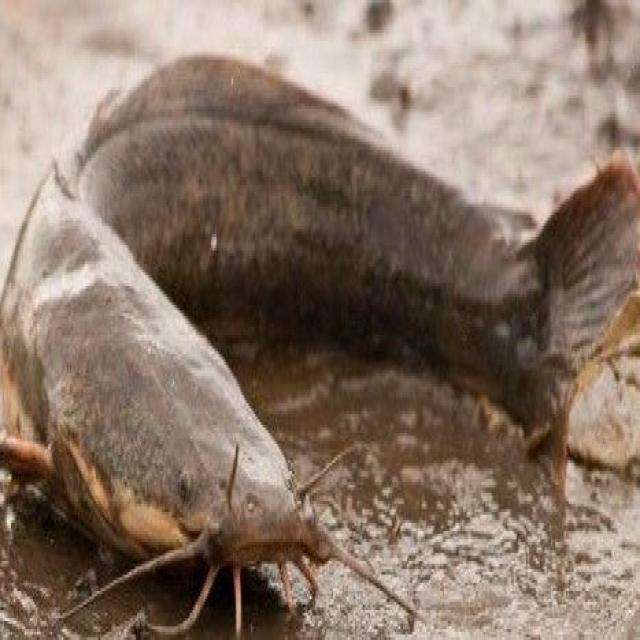Catfish: (5, 2, 640, 616)
